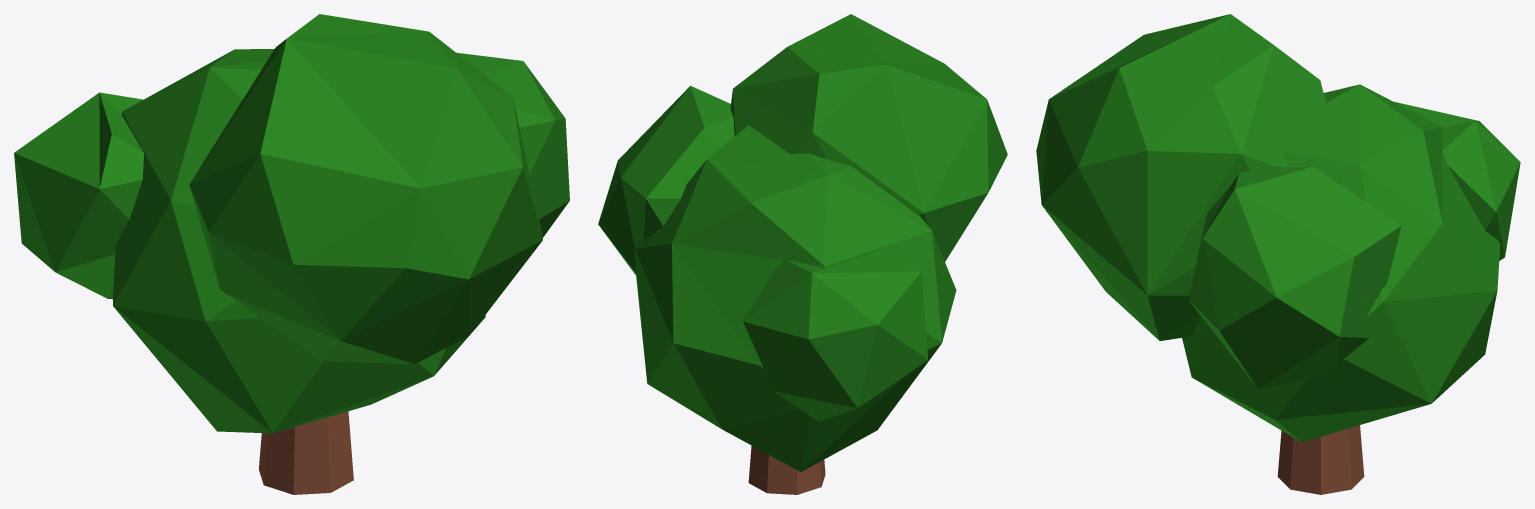
Rendered from Bush_5_summer_mat.fbx.
3 renders of one model, left to right at view 1: azimuth 30°, elevation 25°; view 2: azimuth 150°, elevation 25°; view 3: azimuth 270°, elevation 25°, orthographic. The views are drawn at different scales.
Visible parts, largest first — view 1: Bush_5_summer_mat; view 2: Bush_5_summer_mat; view 3: Bush_5_summer_mat.
Part boxes in pixels (x1=…): Bush_5_summer_mat: x1=14, y1=14, x2=569, y2=494; Bush_5_summer_mat: x1=598, y1=14, x2=1007, y2=494; Bush_5_summer_mat: x1=1036, y1=14, x2=1520, y2=494.
Size of the model in its own units: 31.34 by 32.92 by 33.43.
